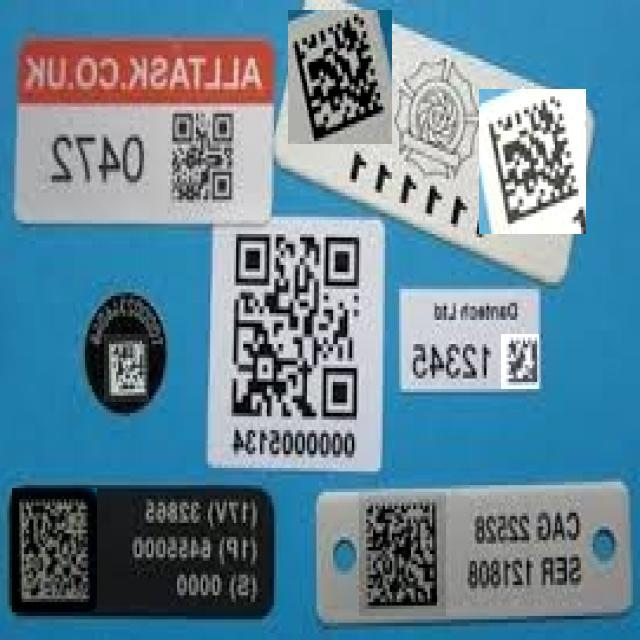Data-Matrix: (479, 89, 586, 234), (288, 11, 392, 145), (359, 492, 446, 616), (12, 489, 97, 613), (104, 334, 149, 402), (501, 334, 539, 389)
